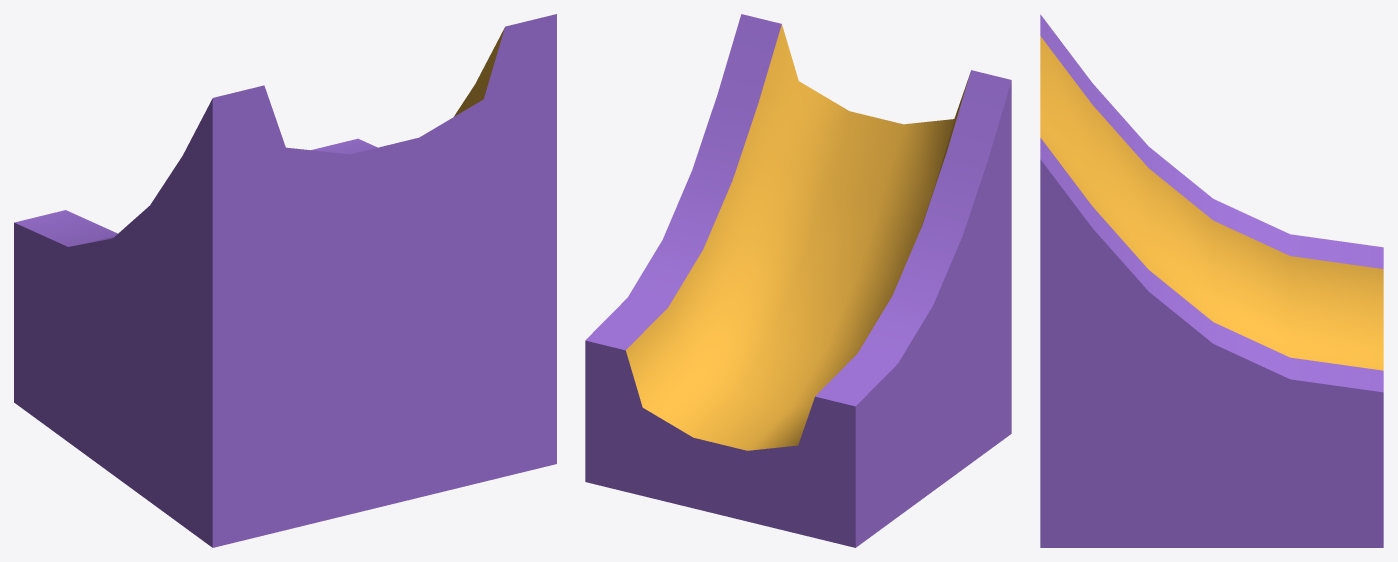
Rendered from ramp-start-solid-d.glb.
The picture shows the model from 3 angles, left to right: view 1: azimuth 30°, elevation 25°; view 2: azimuth 150°, elevation 25°; view 3: azimuth 270°, elevation 25°; orthographic projection. The views are drawn at different scales.
Parts seen in each view (by area): view 1: ramp-start-solid-d; view 2: ramp-start-solid-d; view 3: ramp-start-solid-d.
Part boxes in pixels (x1,y1,x2,y2): ramp-start-solid-d: (14,14,556,547); ramp-start-solid-d: (585,14,1011,547); ramp-start-solid-d: (1040,14,1383,547).
Bounding box in the file's own units: 1 × 1.25 × 1.
1 material, 1 textured.
